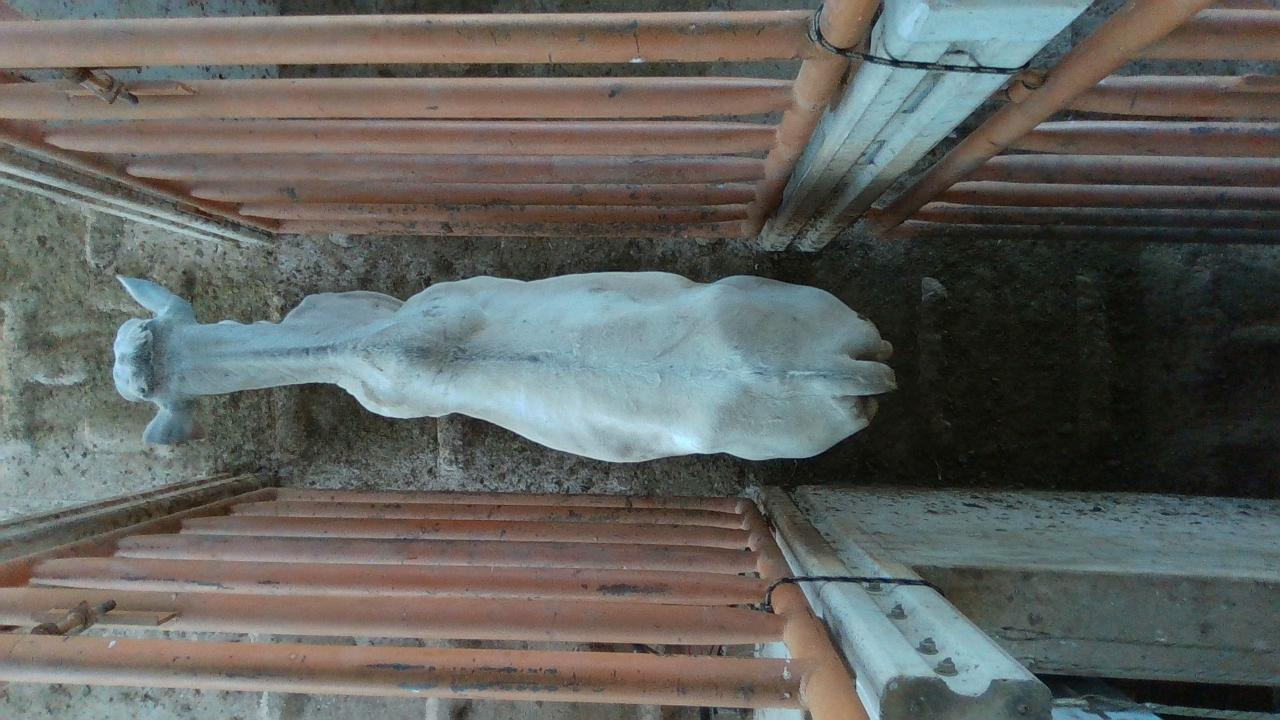cattle: (111, 267, 897, 463)
